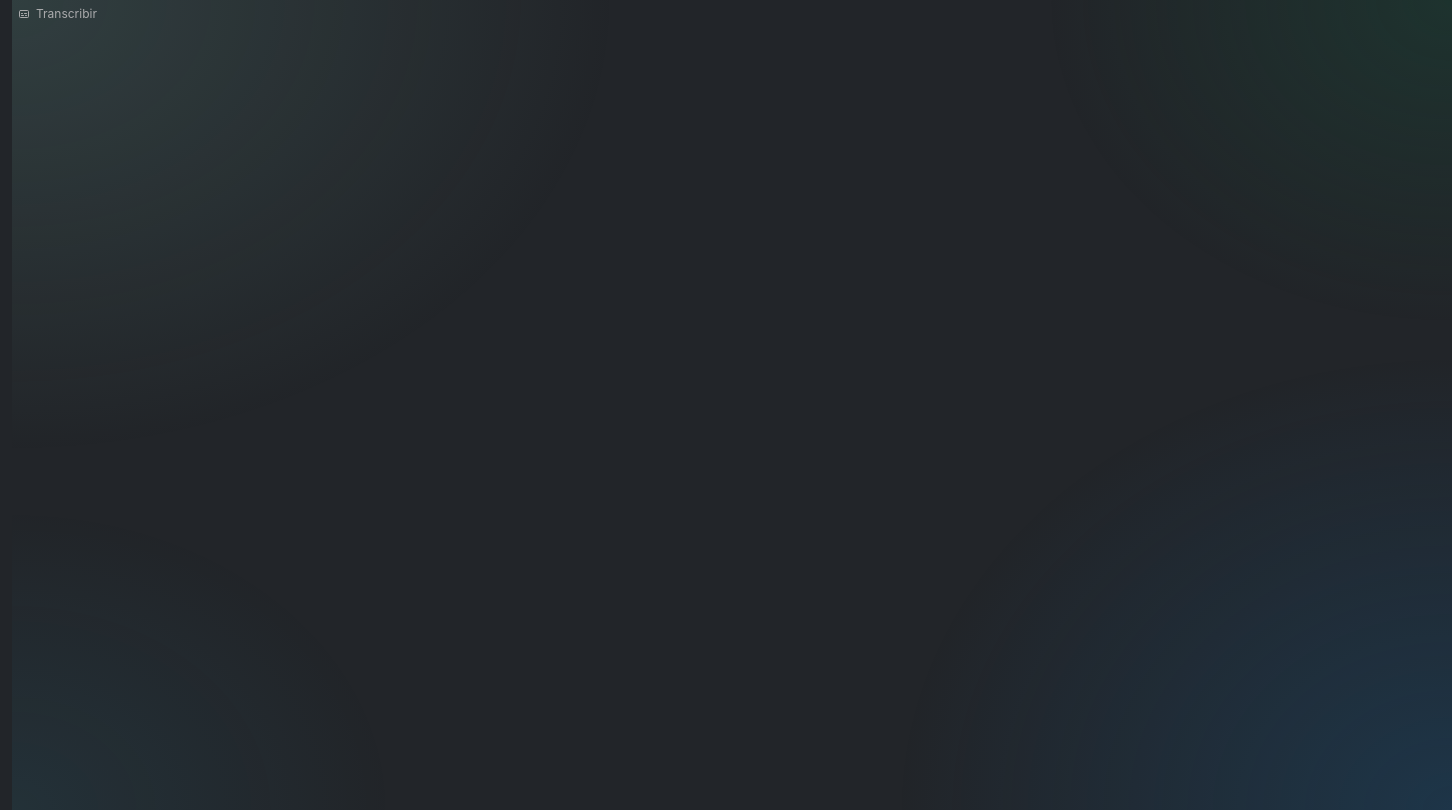
Test: a voice message's transcript (Phase 58) › offers Transcribir, spins while it works, then shows the text and no button
This screenshot has width=1452, height=810.
Later steps or results of the test are not shown.
What coordinates should you click on to do the following:
click the button with aria-label "Transcribir el audio"
I would click on:
 (57, 14)
Its box is left=12, top=4, right=103, bottom=24.
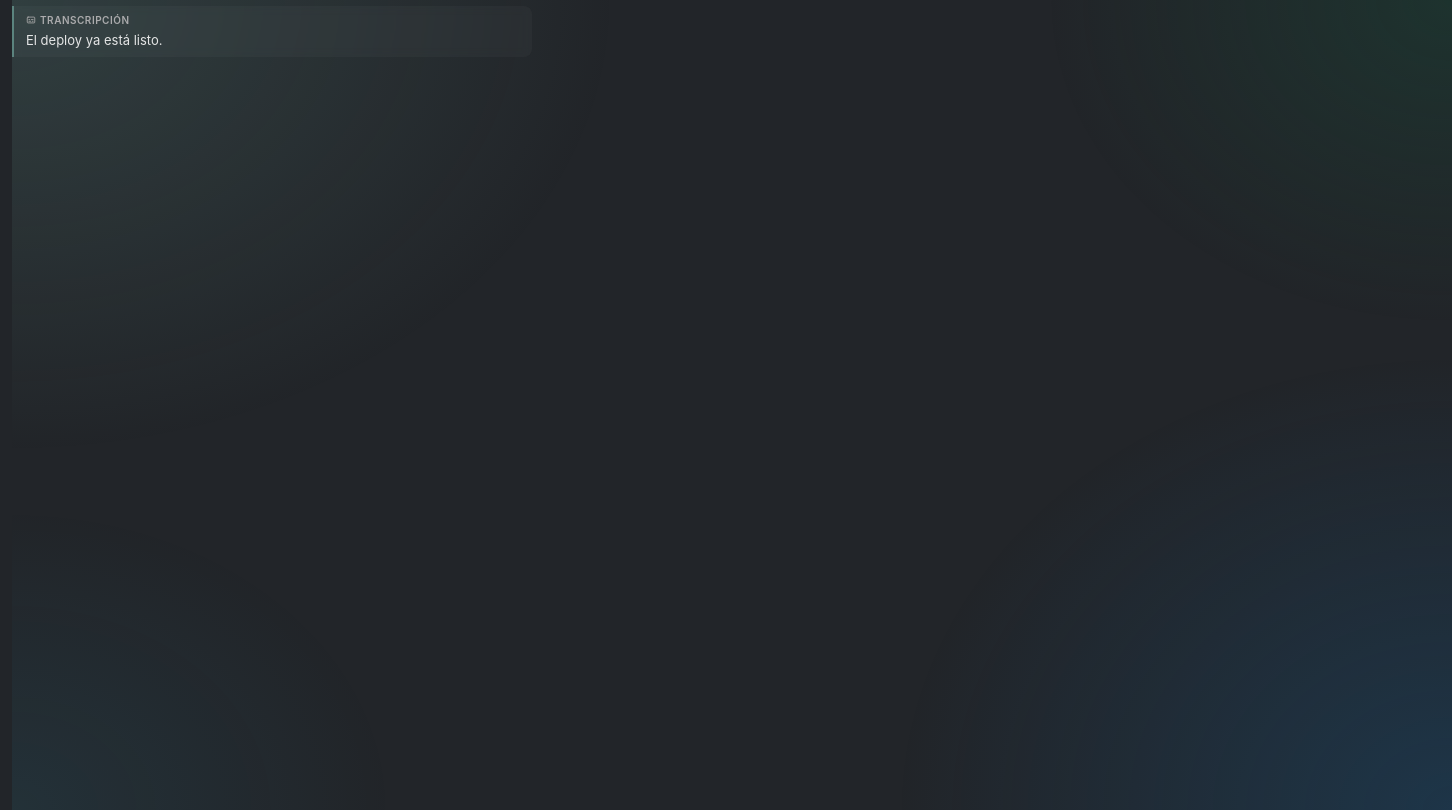
Now the button "Transcribir" is gone
Now the element named "Transcripción del audio" shows "El deploy ya está listo.", box left=26, top=32, right=162, bottom=48
Now the text "El deploy ya está listo." is shown, box left=26, top=32, right=162, bottom=48
